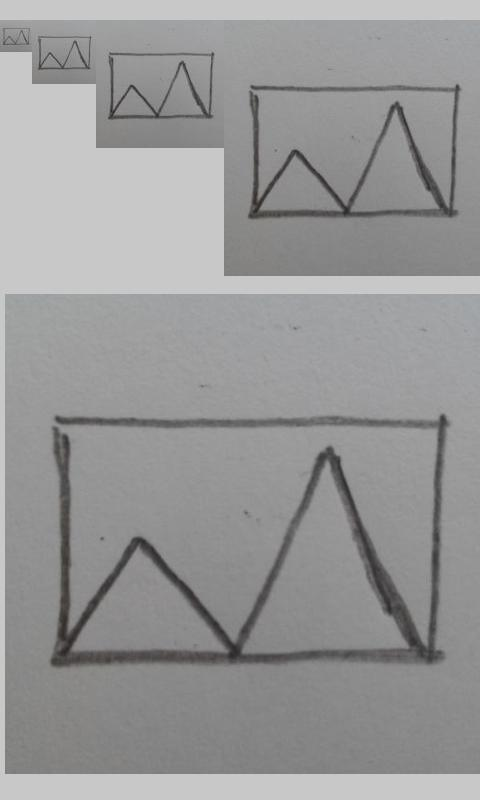image_view: (51, 413, 445, 666), (251, 84, 459, 220), (108, 52, 213, 120), (38, 36, 92, 70), (3, 27, 30, 46)
